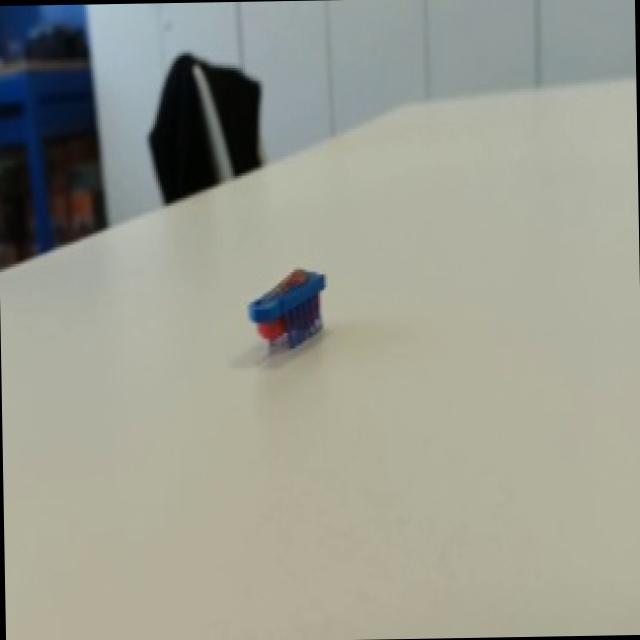1_NanoBug_Azul: (230, 243, 354, 376)
